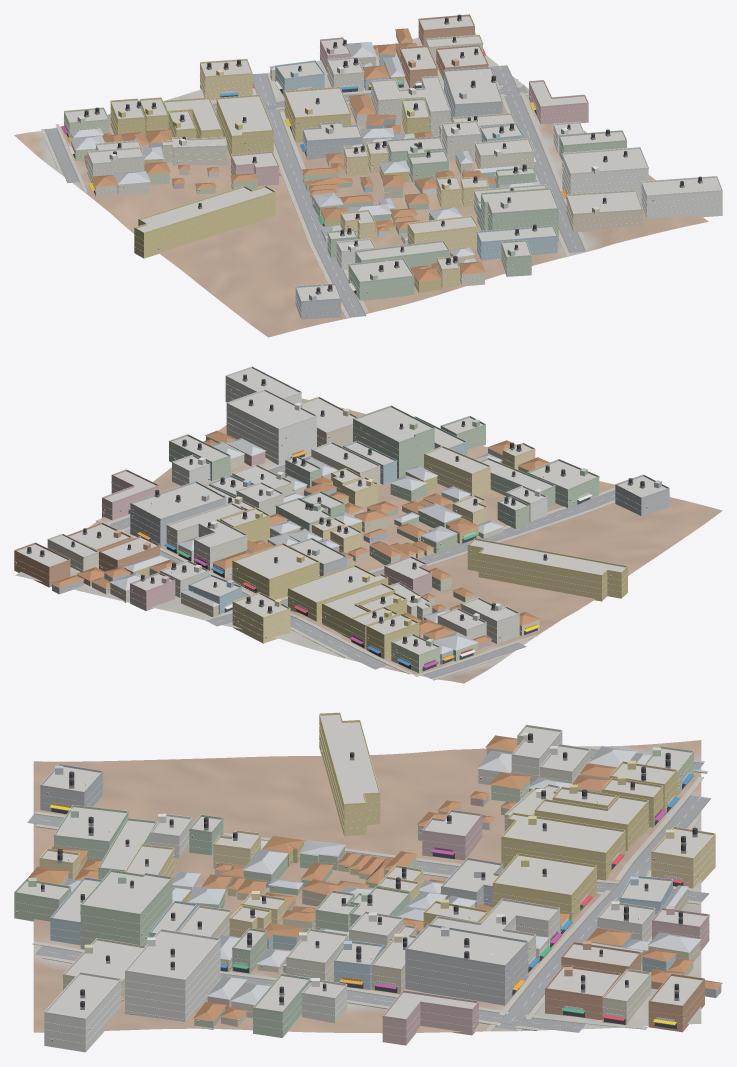
The picture shows the model from 3 angles, top to bottom: view 1: azimuth 30°, elevation 25°; view 2: azimuth 150°, elevation 25°; view 3: azimuth 270°, elevation 25°; orthographic projection. The views are drawn at different scales.
Parts seen in each view (by area): view 1: Buildings-col, Terrain-col, Details, Roads-col, Sidewalks-col; view 2: Buildings-col, Details, Terrain-col, Roads-col, Sidewalks-col; view 3: Buildings-col, Terrain-col, Details, Roads-col, Sidewalks-col.
Boxes of the visible parts, x1=… form: Buildings-col: x1=64, y1=16, x2=722, y2=319; Terrain-col: x1=14, y1=37, x2=708, y2=337; Details: x1=61, y1=14, x2=722, y2=316; Roads-col: x1=44, y1=65, x2=585, y2=317; Sidewalks-col: x1=41, y1=55, x2=588, y2=317; Buildings-col: x1=14, y1=368, x2=669, y2=672; Details: x1=14, y1=366, x2=669, y2=671; Terrain-col: x1=15, y1=398, x2=722, y2=683; Roads-col: x1=109, y1=446, x2=615, y2=678; Sidewalks-col: x1=96, y1=454, x2=615, y2=680; Buildings-col: x1=14, y1=715, x2=722, y2=1052; Terrain-col: x1=33, y1=740, x2=701, y2=1032; Details: x1=14, y1=712, x2=718, y2=1044; Roads-col: x1=27, y1=749, x2=710, y2=1032; Sidewalks-col: x1=32, y1=747, x2=707, y2=1031.
Bounding box in the file's own units: 283 × 26.98 × 272.
